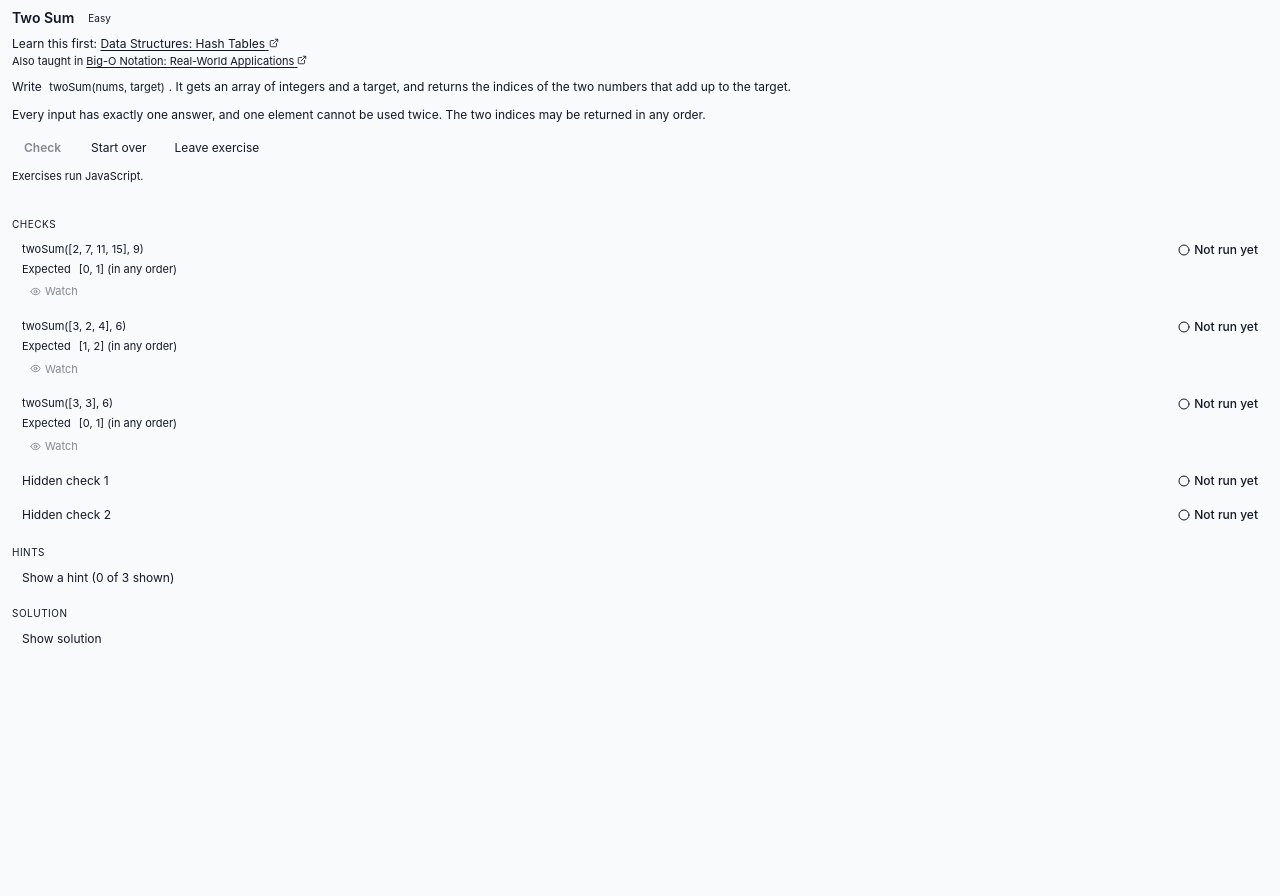
TaskPanel › the solution › cannot be loaded or run in another language
This screenshot has width=1280, height=896.
Click the button "Show solution". click: (62, 640)
box: [12, 628, 112, 652]
(page scrolled)
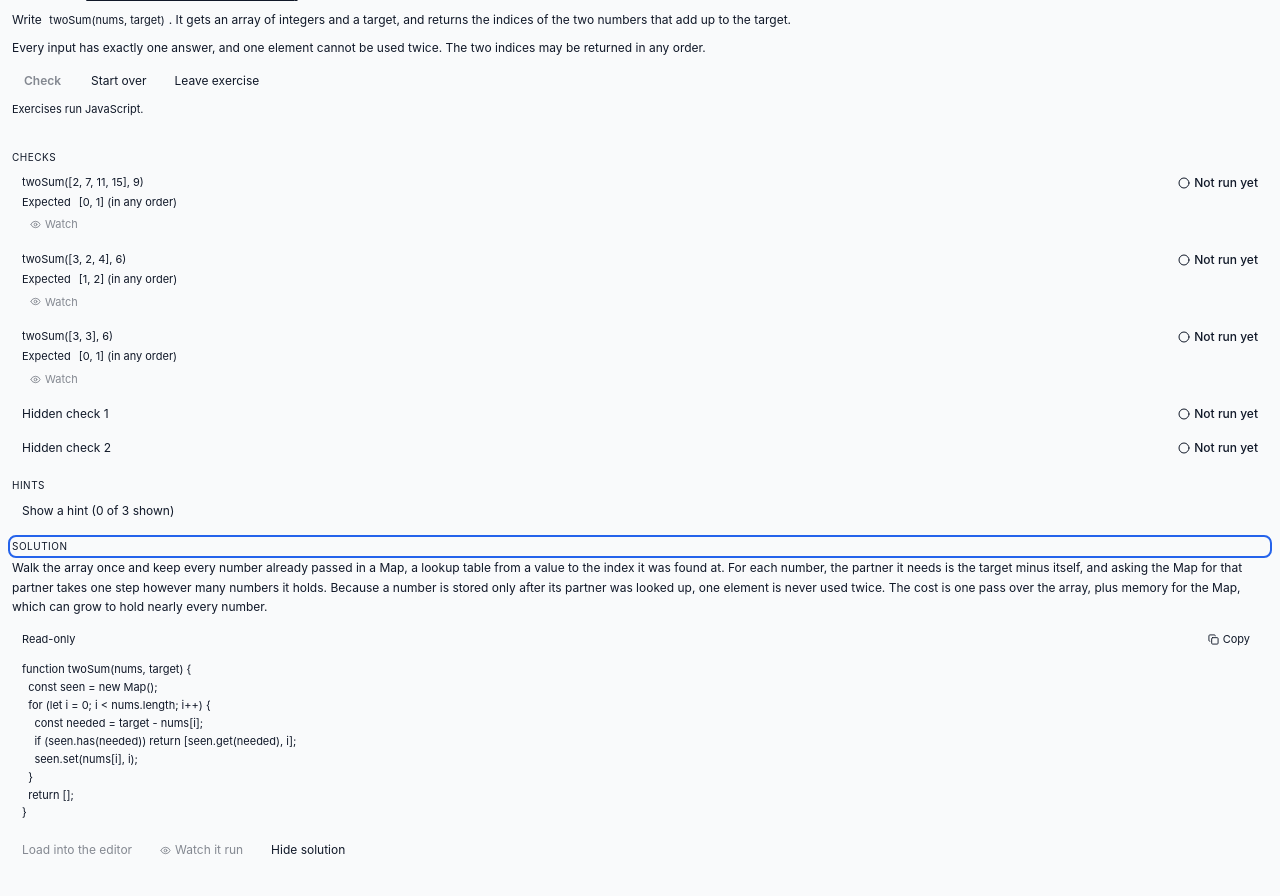
Now the button "Load into the editor" is disabled, box [12, 838, 142, 862]
Now the button "Watch it run" is disabled, box [150, 838, 253, 862]
